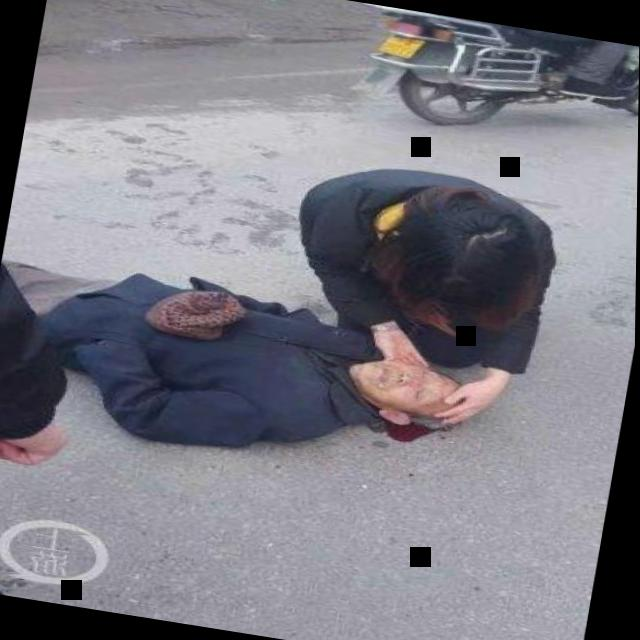Fall-Detected: (0, 243, 504, 487)
